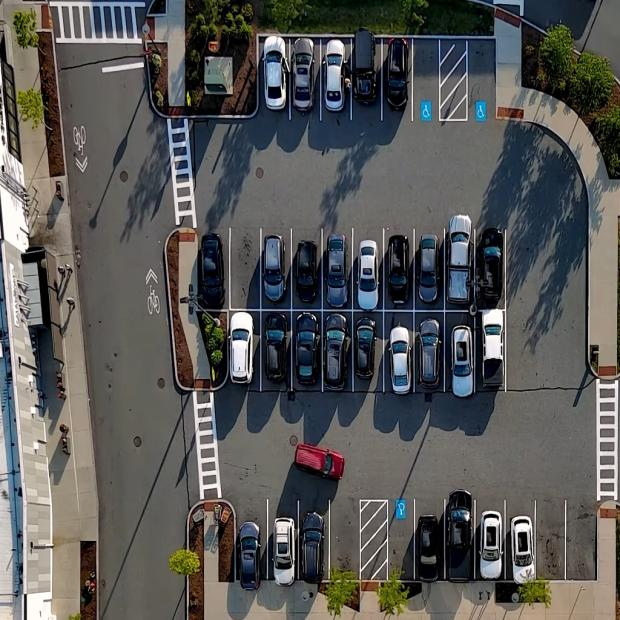car parked: (261, 39, 289, 120), (324, 40, 351, 119), (294, 40, 320, 120), (508, 500, 534, 579), (239, 498, 265, 576), (302, 500, 328, 578), (355, 41, 381, 119), (201, 231, 228, 306), (386, 40, 411, 120), (356, 314, 382, 390), (478, 313, 504, 389), (416, 315, 442, 391), (418, 500, 443, 579), (232, 313, 258, 388), (479, 228, 504, 306), (356, 232, 382, 306), (326, 231, 351, 307), (448, 232, 473, 308), (272, 500, 297, 576), (478, 500, 503, 576), (295, 314, 320, 389), (264, 313, 289, 388), (449, 499, 473, 577), (327, 314, 351, 391), (450, 315, 474, 392), (266, 230, 290, 307), (388, 315, 412, 391), (388, 231, 412, 306), (418, 231, 442, 306), (296, 232, 320, 306)
clear to parked: (538, 502, 564, 578), (569, 501, 594, 578), (234, 232, 259, 306), (333, 500, 357, 577)
